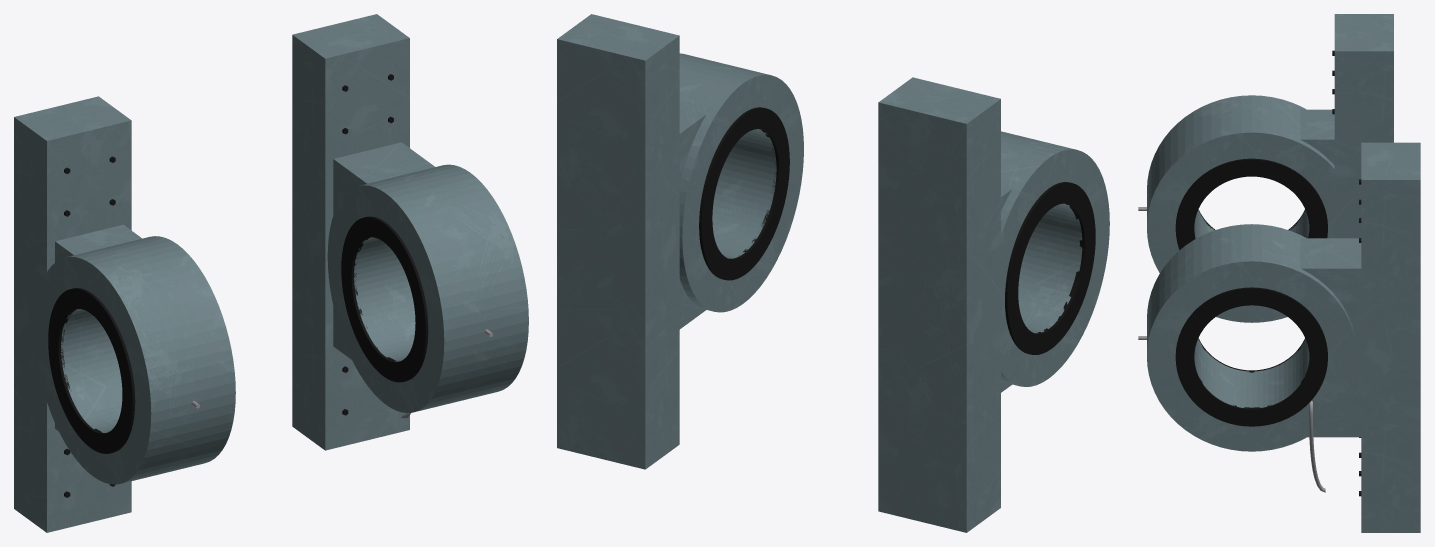
Rendered from main_bearing.glb.
3 views of the same model, side by side, from view 1: azimuth 30°, elevation 25°; view 2: azimuth 150°, elevation 25°; view 3: azimuth 270°, elevation 25° (orthographic). The views are drawn at different scales.
Parts seen in each view (by area): view 1: main_bearing; view 2: main_bearing; view 3: main_bearing.
Boxes of the visible parts, box(x1,y1,x2,y2) form: main_bearing: box(14, 14, 528, 532); main_bearing: box(557, 14, 1109, 532); main_bearing: box(1138, 14, 1420, 532).
Bounding box in the file's own units: 2.37 × 2.3 × 1.67.
4 materials, 2 textured.
